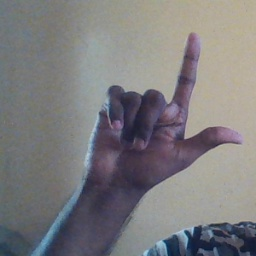L: (84, 30, 244, 185)
